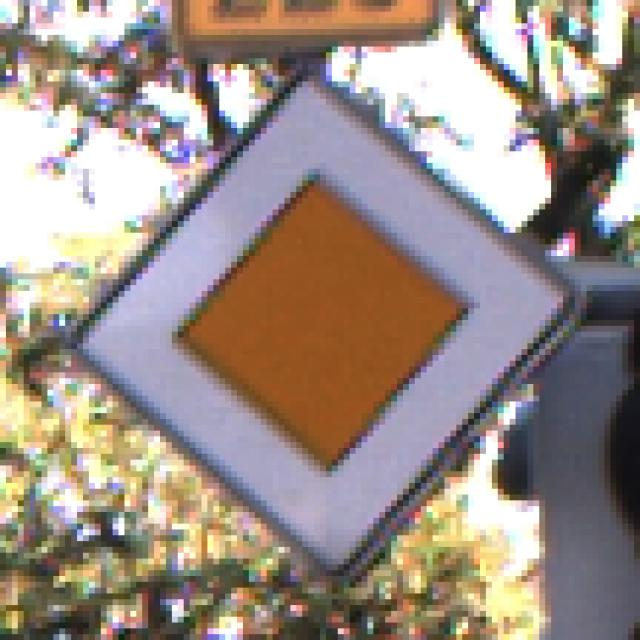Main Road: (60, 59, 588, 589)
